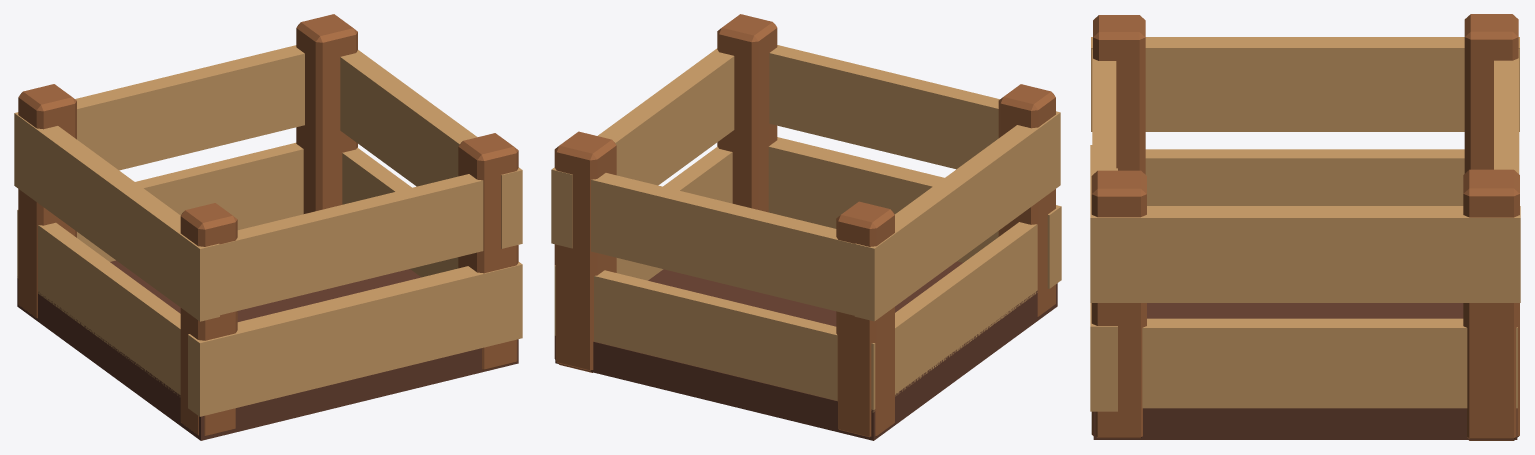
Rendered from Crate_Empty.fbx.
3 views of the same model, side by side, from view 1: azimuth 30°, elevation 25°; view 2: azimuth 150°, elevation 25°; view 3: azimuth 270°, elevation 25° (orthographic). The views are drawn at different scales.
Visible parts, largest first — view 1: Crate_Empty; view 2: Crate_Empty; view 3: Crate_Empty.
Boxes of the visible parts, x1,y1,x2,y2 form: Crate_Empty: (14, 14, 522, 440); Crate_Empty: (551, 14, 1061, 440); Crate_Empty: (1090, 14, 1520, 440).
Size of the model in its own units: 0.7162 by 0.464 by 0.7162.
